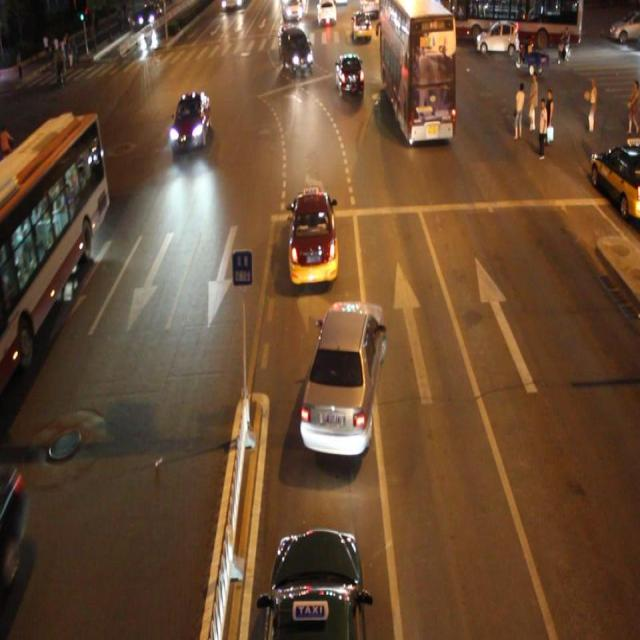car: (299, 298, 384, 455), (260, 526, 367, 640), (287, 188, 339, 284), (169, 91, 210, 150), (26, 129, 61, 191), (280, 28, 314, 75), (335, 52, 365, 96)
van: (0, 113, 109, 385), (379, 1, 454, 141)
